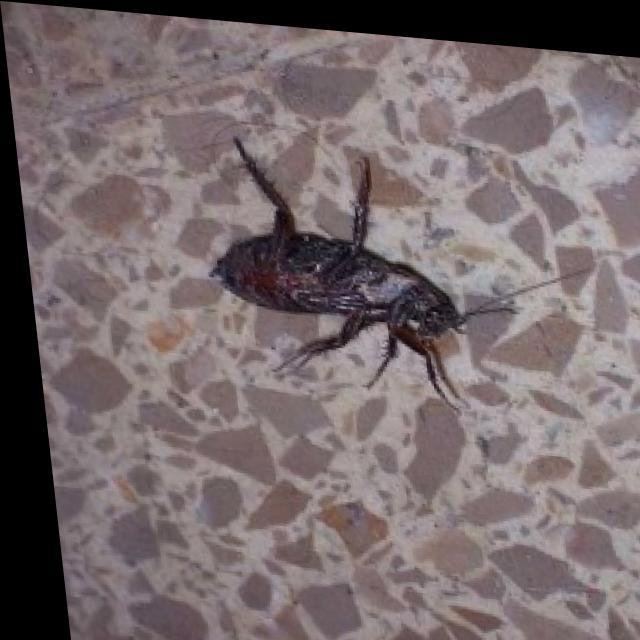cockroach: (211, 167, 497, 411)
